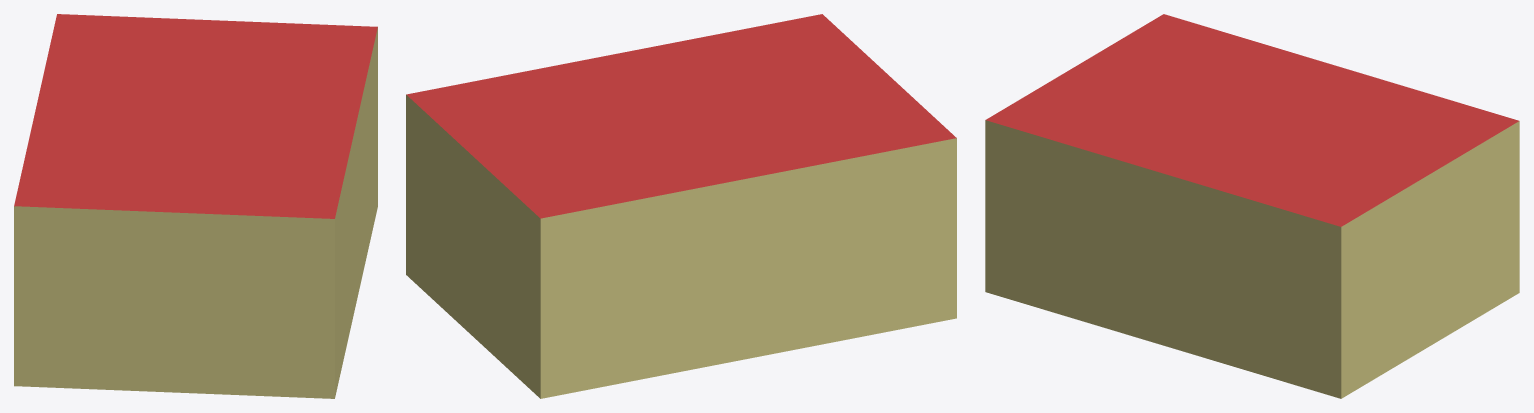
The picture shows the model from 3 angles, left to right: view 1: azimuth 30°, elevation 25°; view 2: azimuth 150°, elevation 25°; view 3: azimuth 270°, elevation 25°; orthographic projection. The views are drawn at different scales.
Size of the model in its own units: 14.7 by 15.58 by 5.54.
